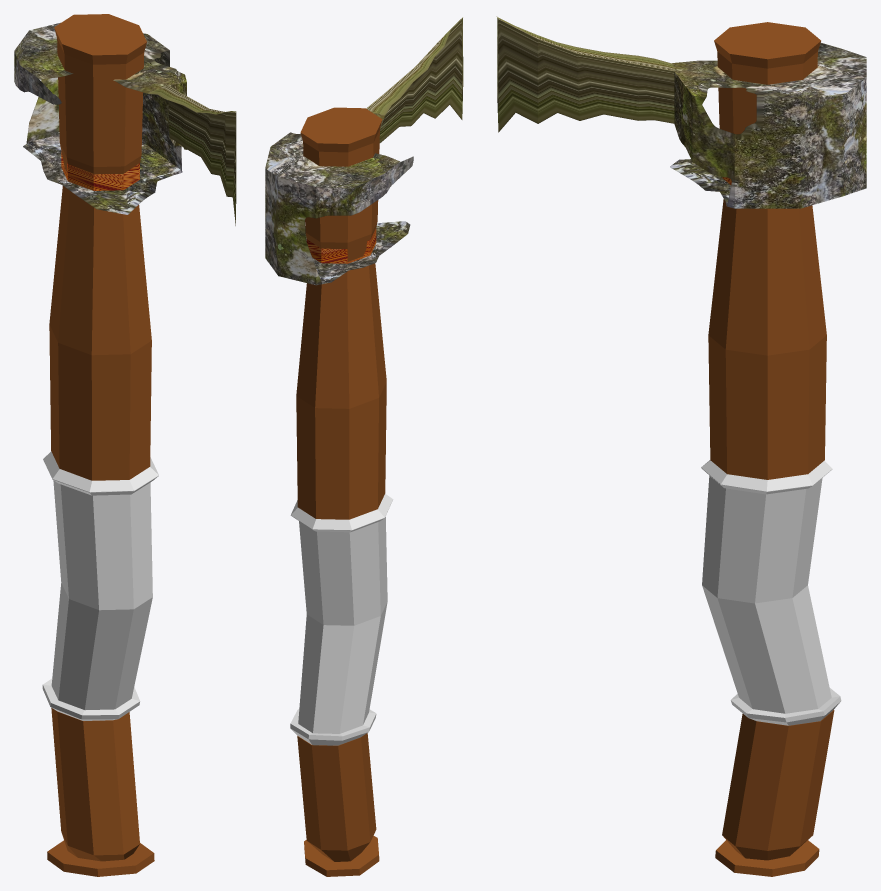
Rendered from MedievalBattle_Axe.fbx.
3 views of the same model, side by side, from view 1: azimuth 30°, elevation 25°; view 2: azimuth 150°, elevation 25°; view 3: azimuth 270°, elevation 25° (orthographic). The views are drawn at different scales.
Parts seen in each view (by area): view 1: Cube; view 2: Cube; view 3: Cube.
Part boxes in pixels (box(x1,y1,x2,y2)): Cube: box(14, 14, 236, 876); Cube: box(265, 17, 463, 876); Cube: box(496, 16, 866, 876).
Size of the model in its own units: 239 by 1533 by 612.
Materials: 3 (2 with a texture image).
